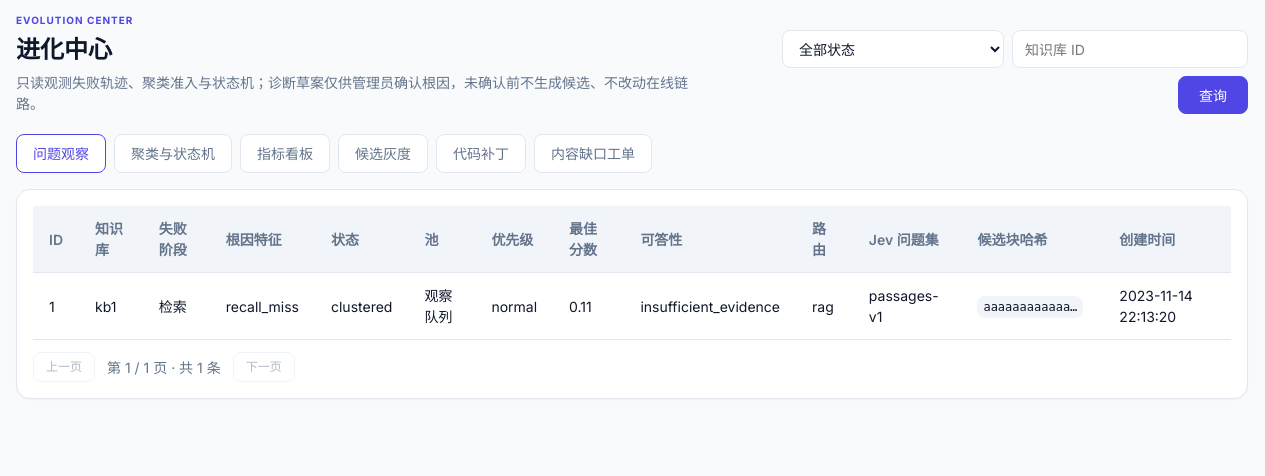
EvolutionCenterView › shows gap tickets with their samples and missing terms, and never as candidates
Click the button with test id "tab-gap-tickets". click: [593, 154]
box: [534, 134, 652, 173]
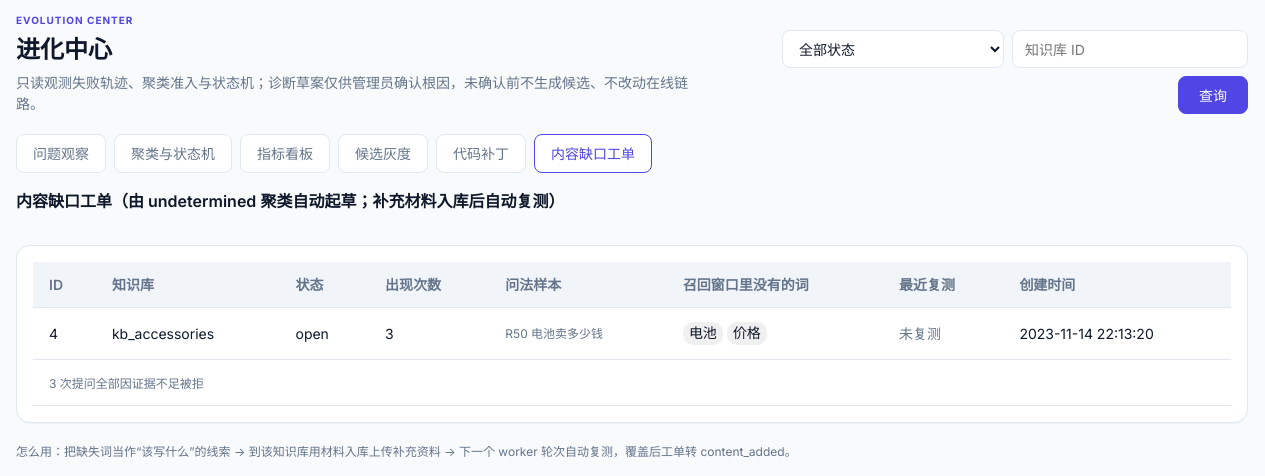
Now the row with test id "gap-ticket-row" shows "kb_accessories", box [112, 325, 214, 342]
Now the row with test id "gap-ticket-row" shows "R50 电池卖多少钱", box [505, 326, 603, 340]
Now the row with test id "gap-ticket-row" shows "电池", box [689, 325, 717, 341]
